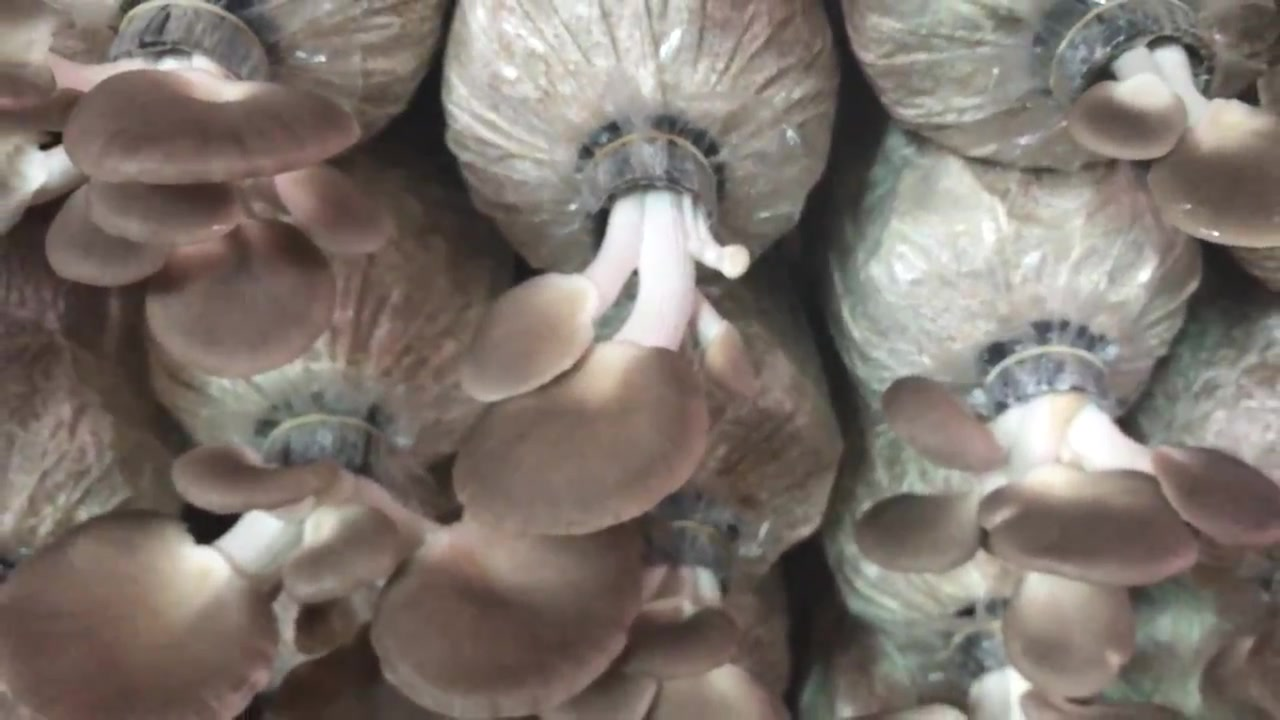nam: (1, 414, 645, 717), (848, 331, 1280, 700), (3, 1, 396, 382), (453, 116, 761, 542), (1043, 7, 1280, 246)
